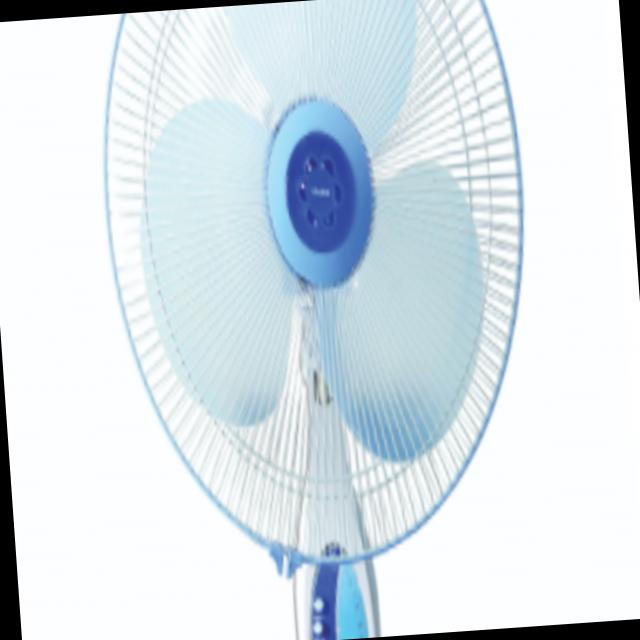fan: (86, 0, 560, 640)
